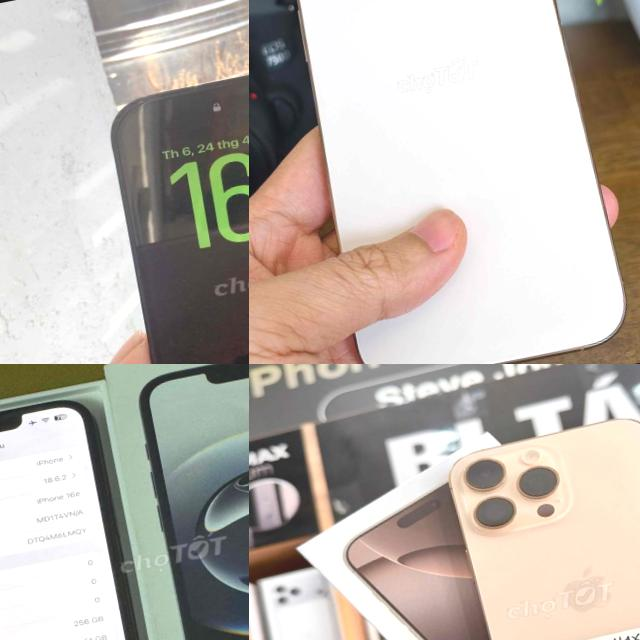gen_14: (97, 38, 249, 364)
gen_16: (296, 0, 625, 364), (438, 403, 640, 640), (0, 400, 139, 640)
